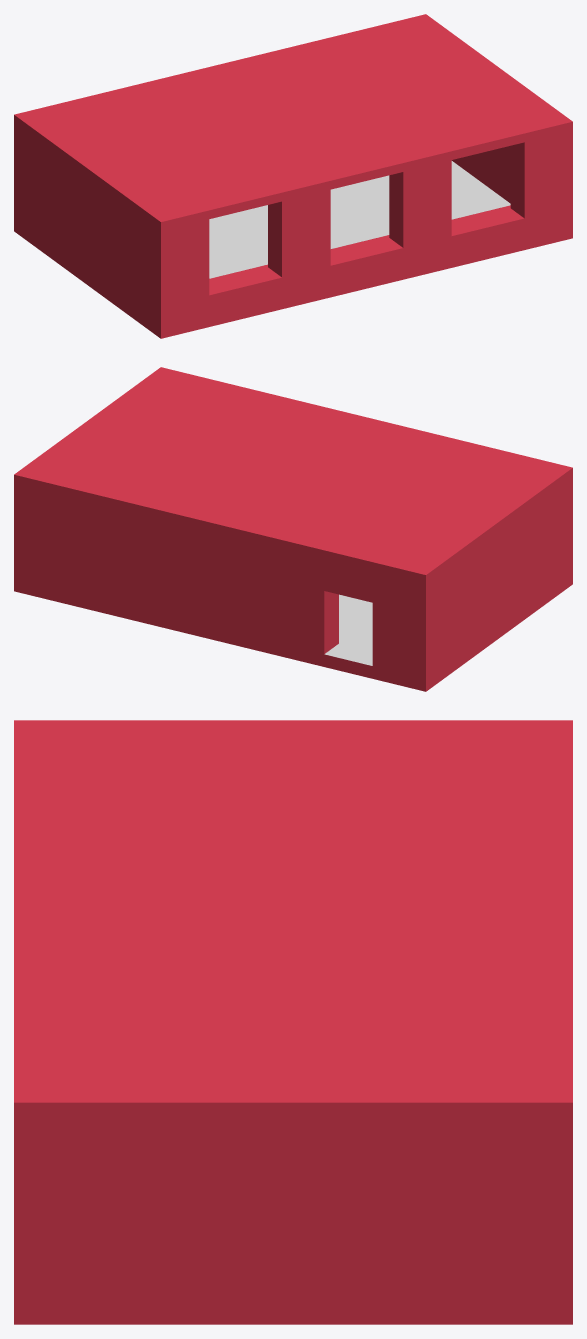
File: Class.fbx
3 renders of one model, top to bottom at view 1: azimuth 30°, elevation 25°; view 2: azimuth 150°, elevation 25°; view 3: azimuth 270°, elevation 25°, orthographic. The views are drawn at different scales.
Parts seen in each view (by area): view 1: 316.005; view 2: 316.005; view 3: 316.005.
Part boxes in pixels (left/top/right/bottom): 316.005: left=14, top=14, right=572, bottom=338; 316.005: left=14, top=367, right=572, bottom=691; 316.005: left=14, top=720, right=572, bottom=1324.
Bounding box in the file's own units: 1700 × 460 × 1050.
